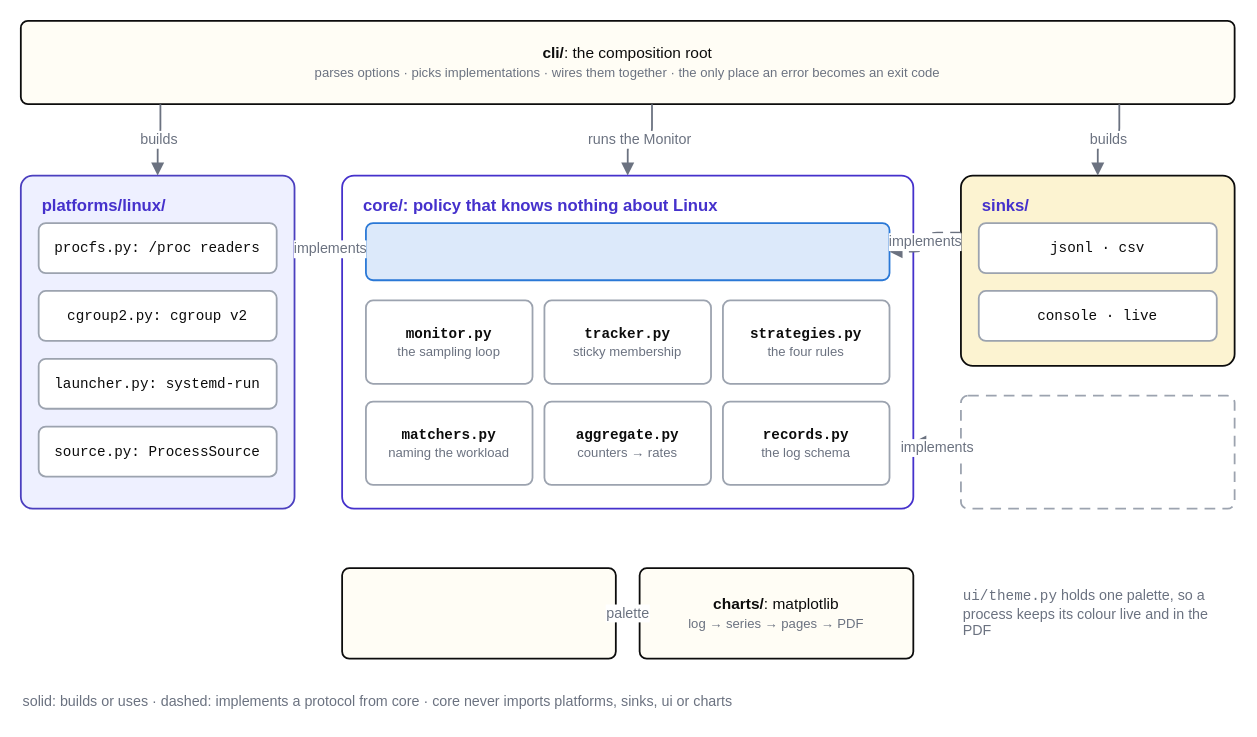
Image size: 1257x737. Some labels were removed from this diagram. Each missing label, with the centre of its shape:
gpu/ the MetricCollector seam, nothing registered yet: the point at 1097,451
interfaces.py : the protocols every layer meets at: the point at 627,251
ui/ : Rich dashboard · views · theme: the point at 478,613
